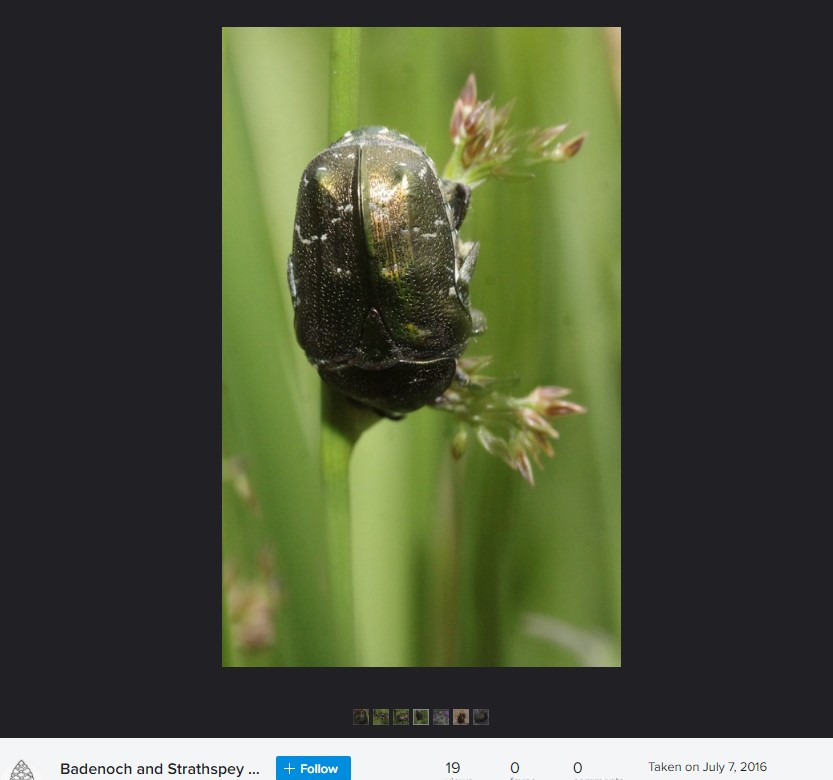Protaetia_metallica: (284, 116, 481, 432)
